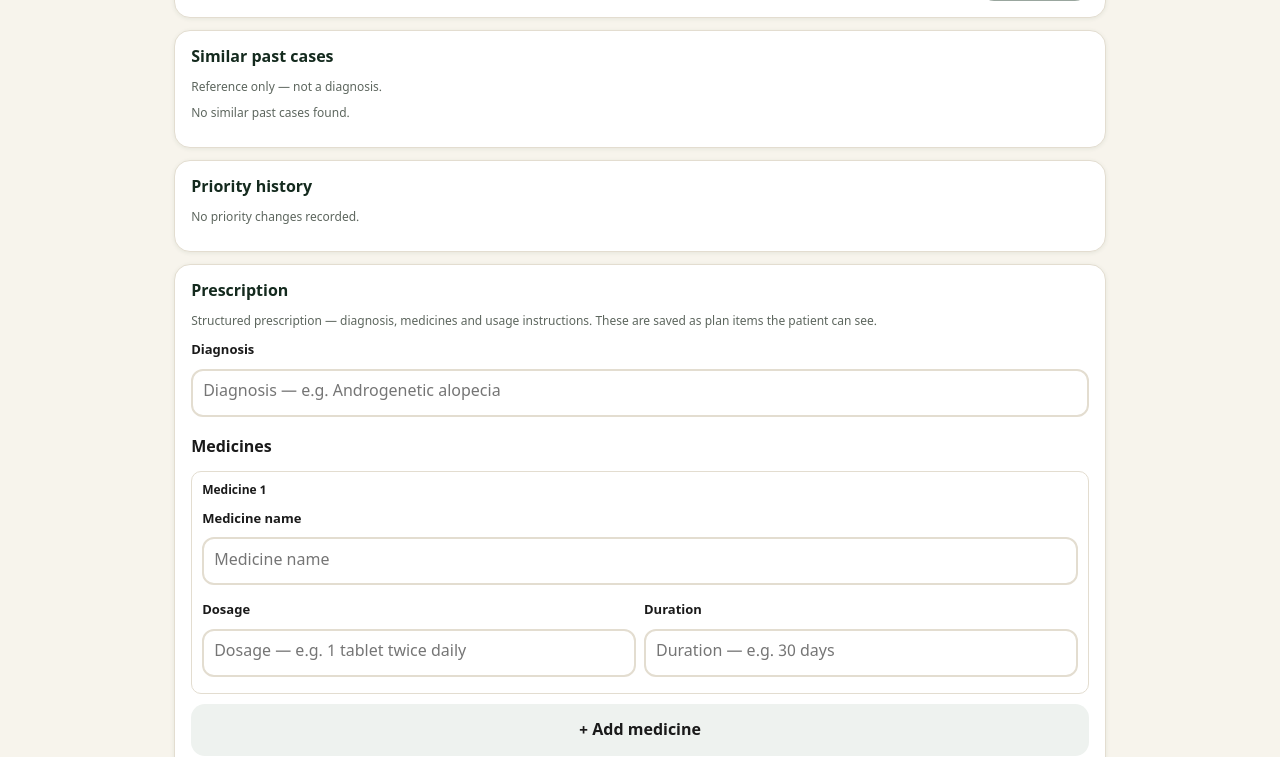
Test case: DoctorCase — structured prescription › serializes diagnosis + medicines + instructions into the plan payload, then approves
(page scrolled)
Expected: the heading "Prescription" is shown, [191,282,288,303]
Type "Androgenetic alopecia" into the field with placeholder "Diagnosis — e.g. Androgenetic alopecia" at (640, 392), box [191,368,1089,416]
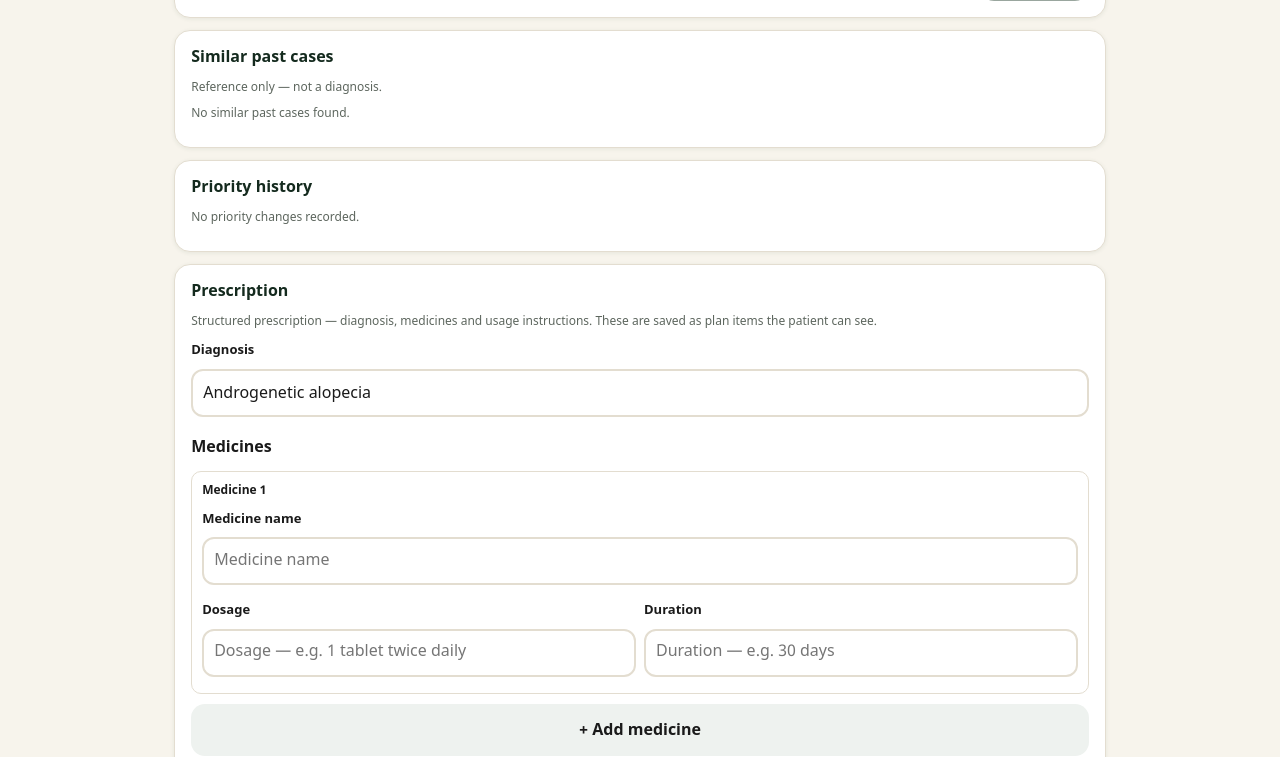
Type "Minoxidil" into the field with placeholder "Medicine name" at (640, 561), box [202,537,1078,585]
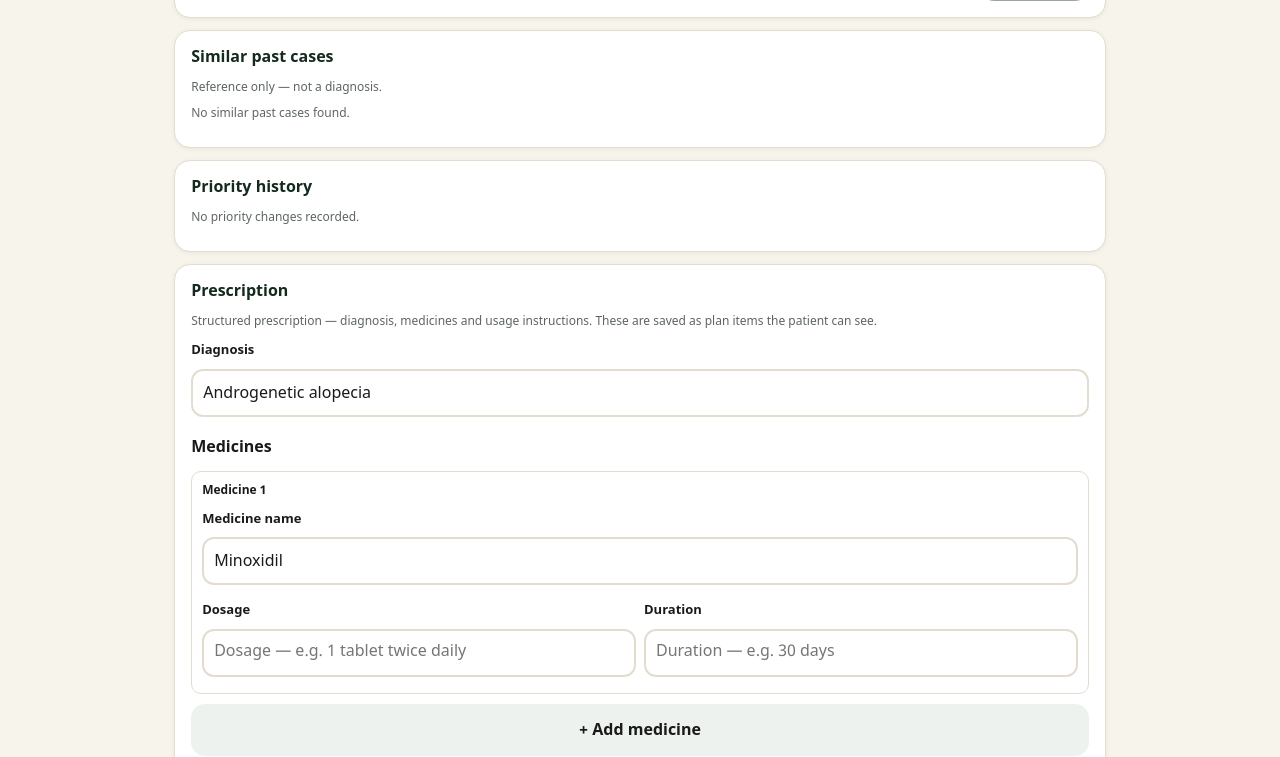
Type "5% twice daily" into the field with placeholder "Dosage — e.g. 1 tablet twice daily" at (419, 652), box [202,628,636,676]
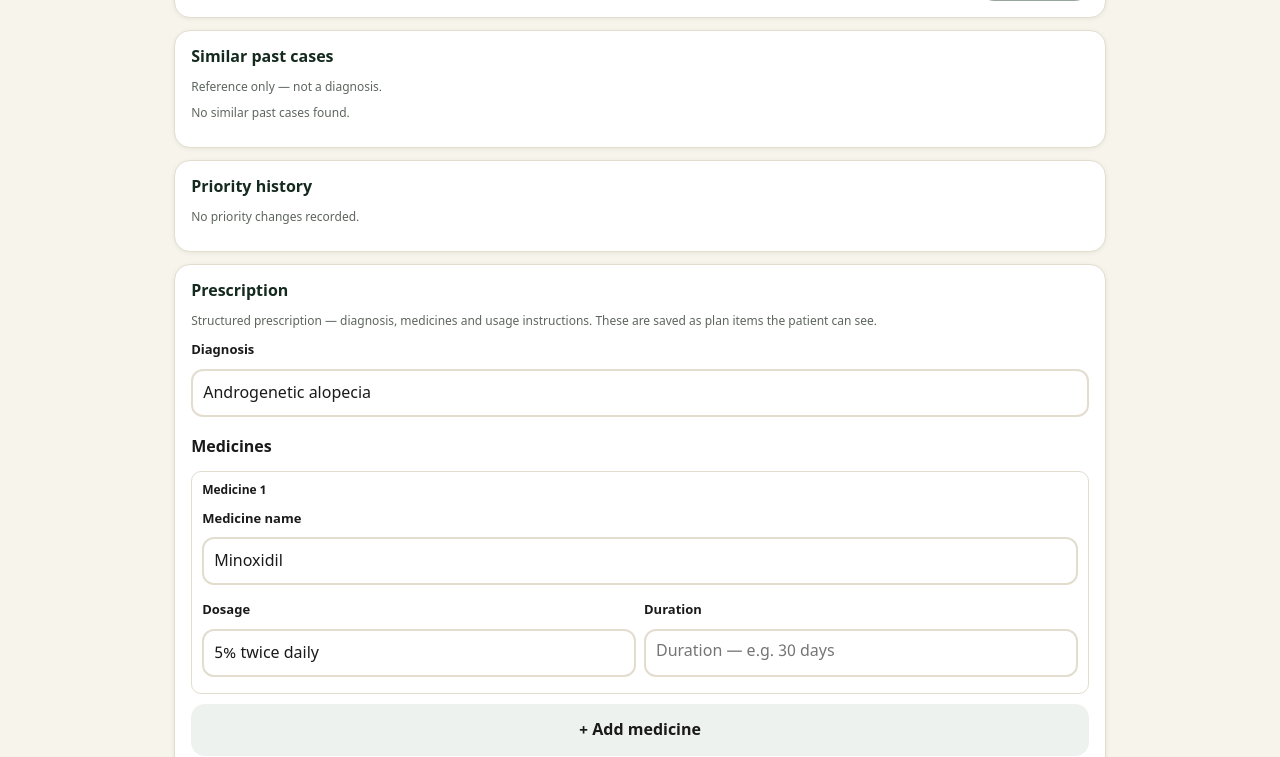
Type "90 days" into the field with placeholder "Duration — e.g. 30 days" at (861, 652), box [644,628,1078,676]
(page scrolled)
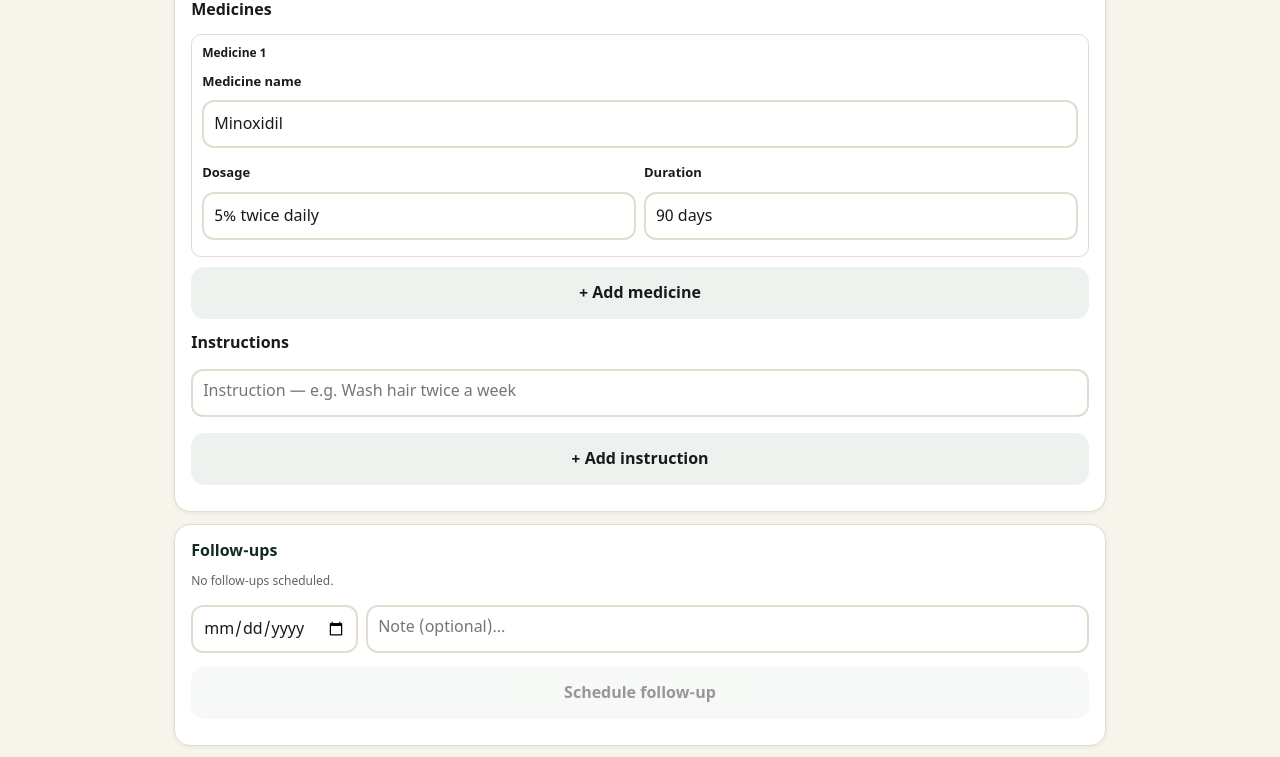
Type "Wash hair twice a week" into the field with placeholder "Instruction — e.g. Wash hair twice a week" at (640, 392), box [191,368,1089,416]
(page scrolled)
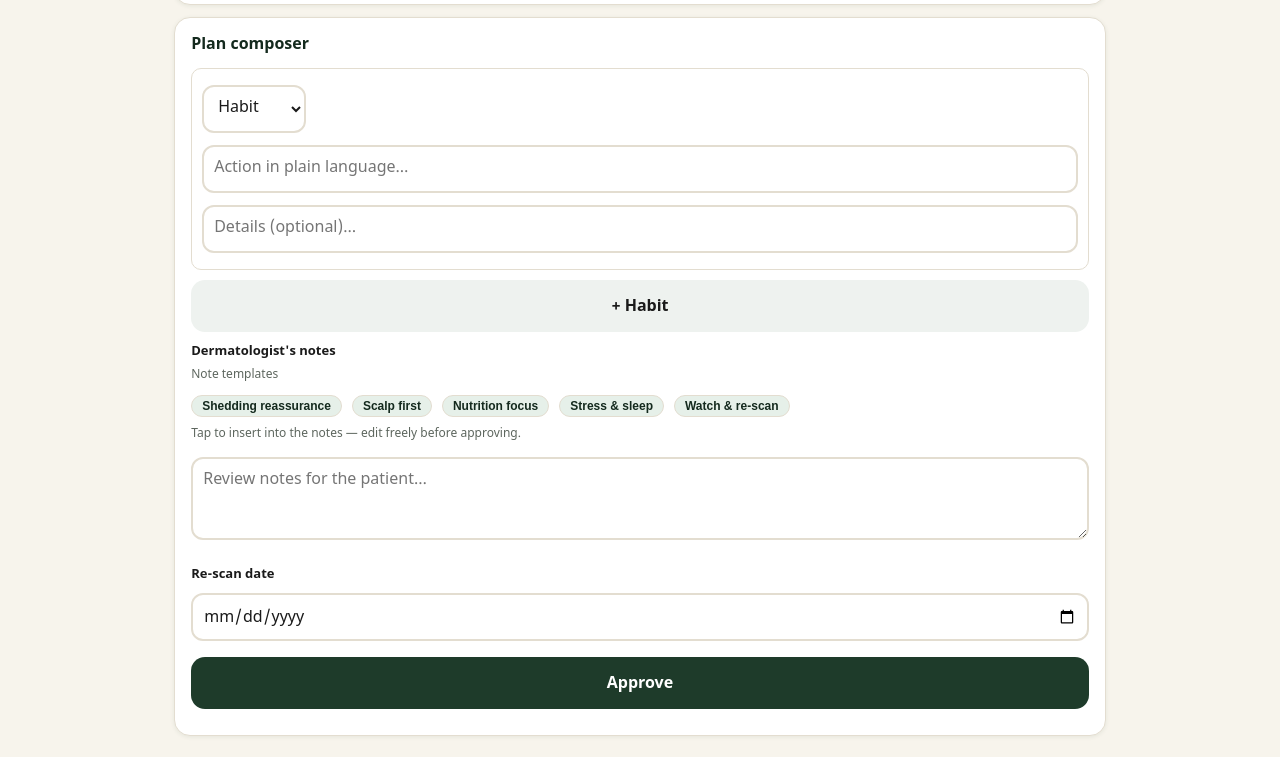
Click the button "Approve" at (640, 682), box [191,656,1089,708]
(page scrolled)
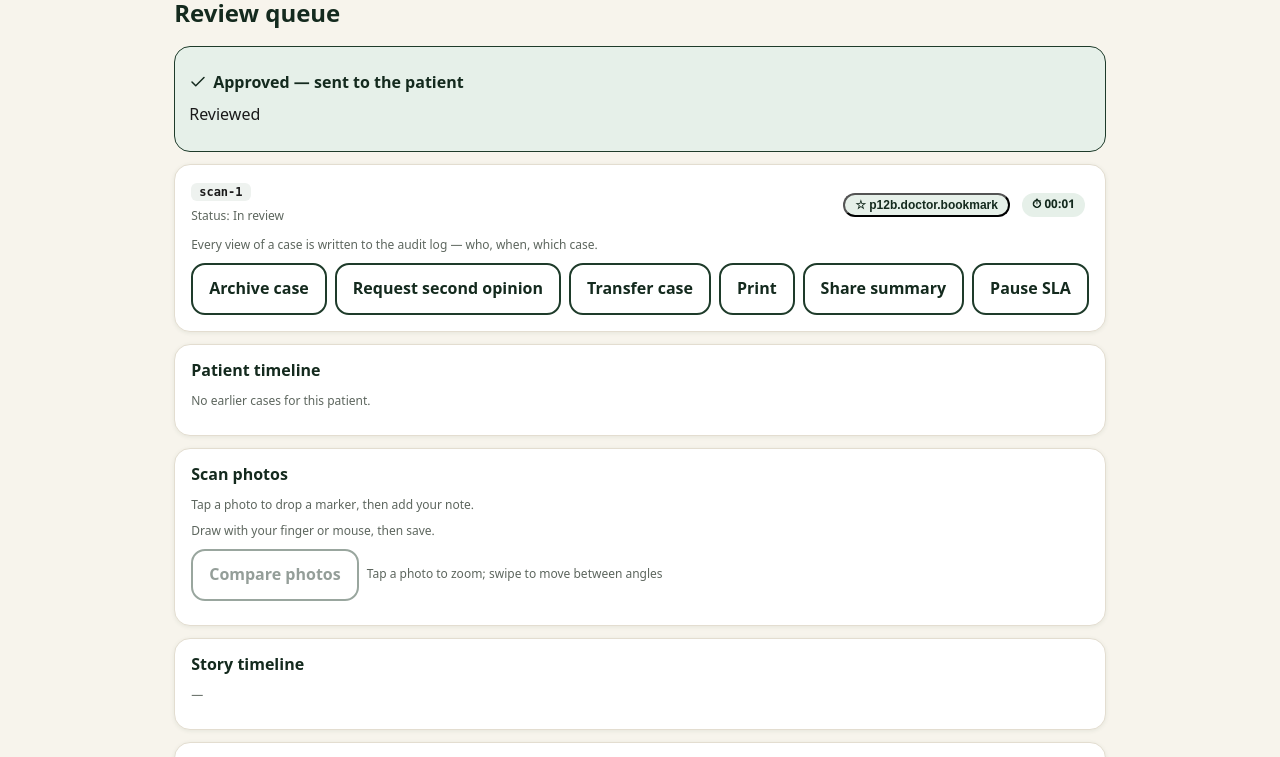
Result: the heading "Approved — sent to the patient" is shown at [189,73,464,95]
